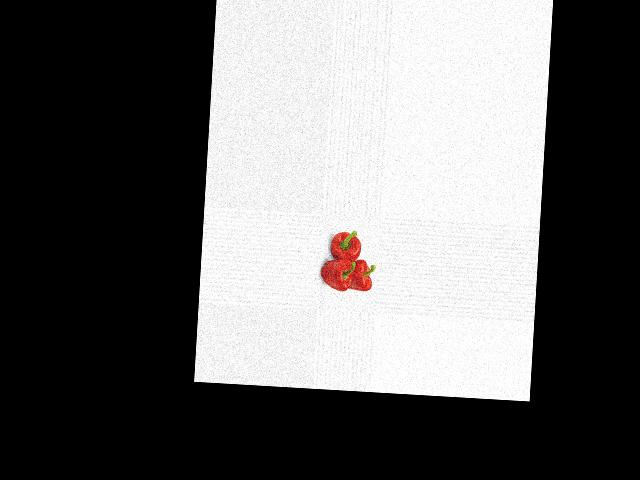bell_pepper: (326, 227, 366, 265)
